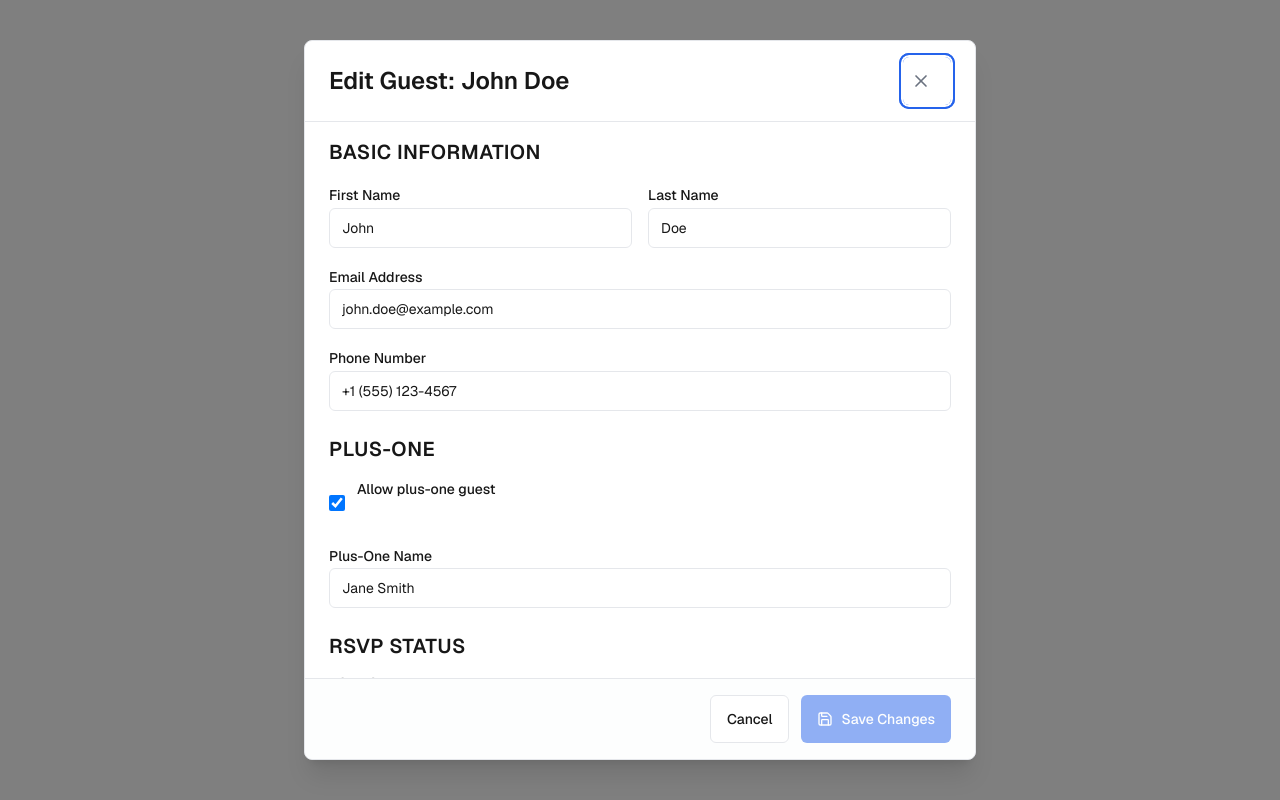
it: EditGuestModal › validates required fields
Clear the field labelled "First Name" at coordinates (480, 228), box [329, 208, 632, 248]
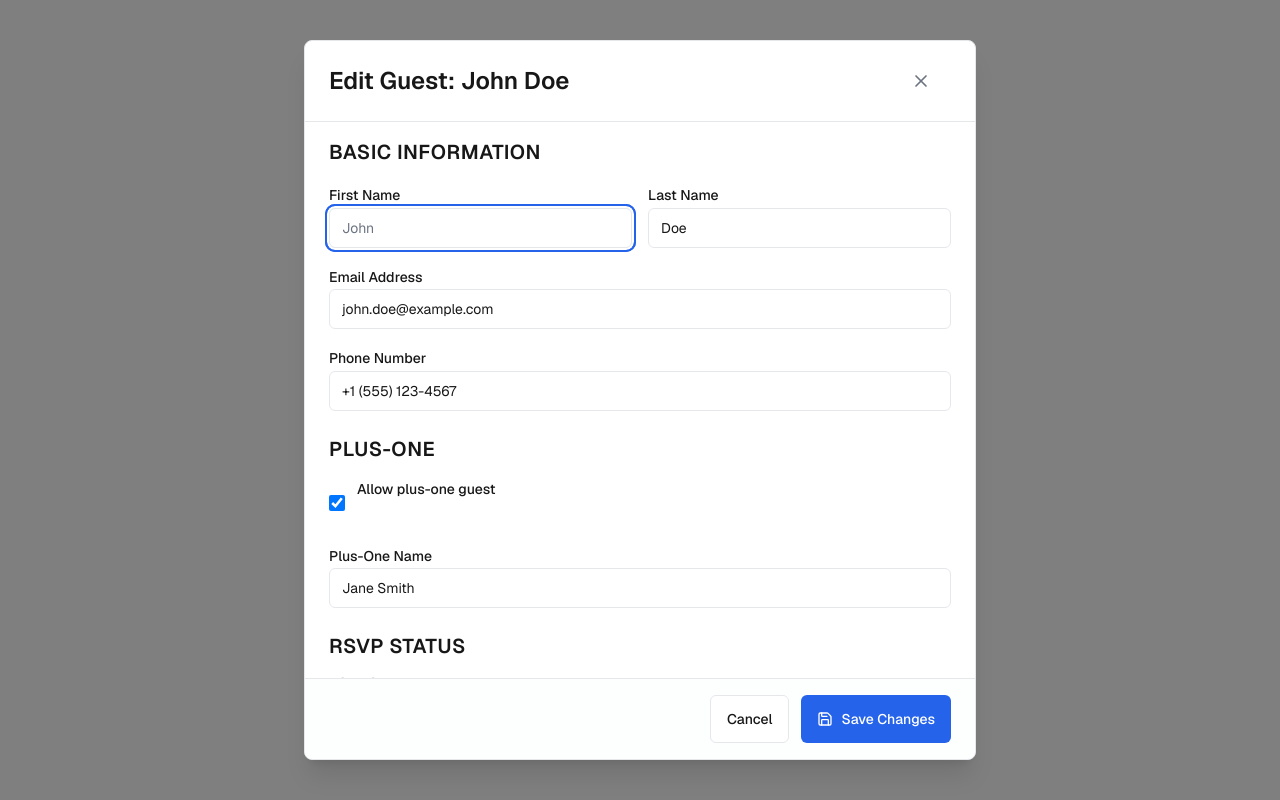
Click the button "Save Changes" at coordinates (876, 719), box [801, 695, 951, 743]
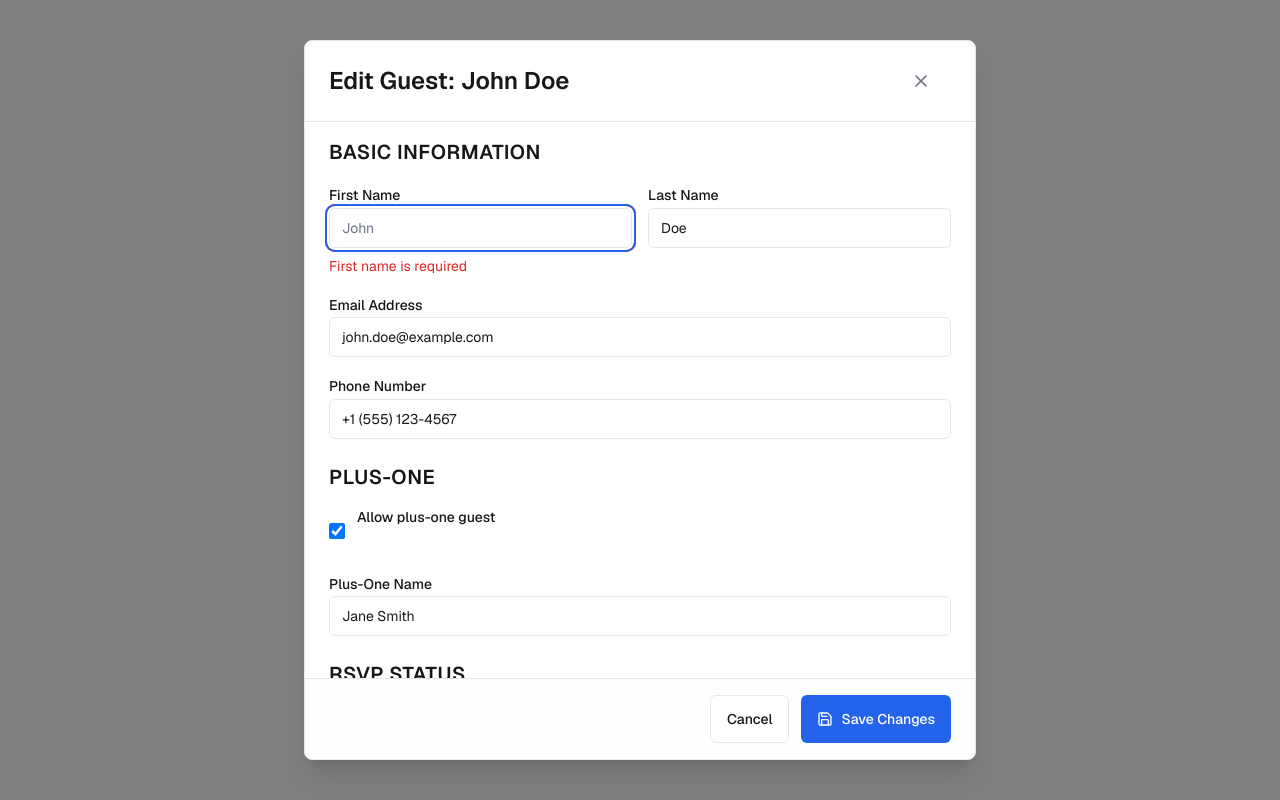
Expected: the text "First name is required" is shown, [329, 257, 467, 275]
